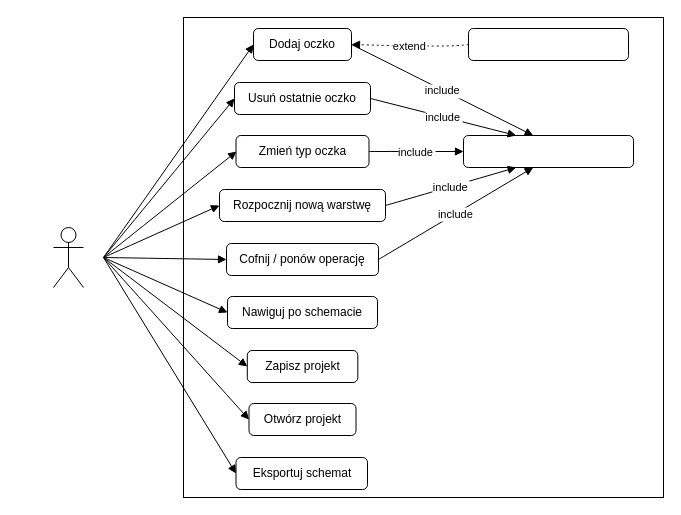
Some shapes in this 681 by 515 pixel diagram are drawn without their labels. Here are the shapes that lost their labels. From the top down, the box of each, then its label:
(468, 28, 628, 60): Połącz kilka oczek
(462, 134, 634, 168): Przelicz układ symboli
(52, 226, 84, 288): Osoba projektująca wzór
